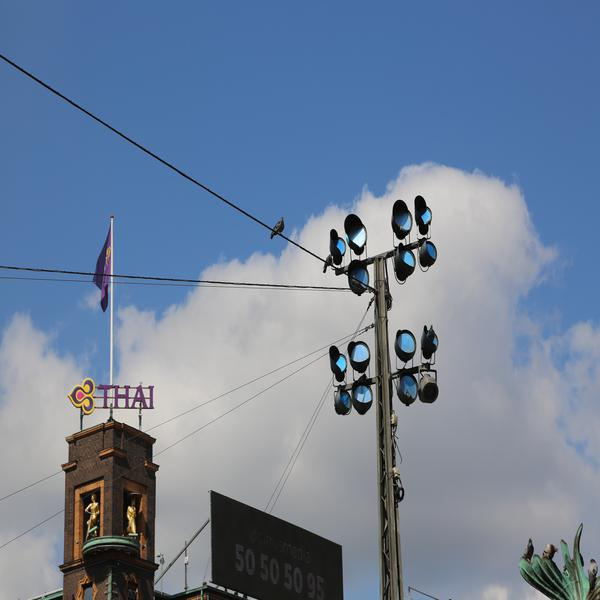utility_pole: (313, 183, 448, 439)
